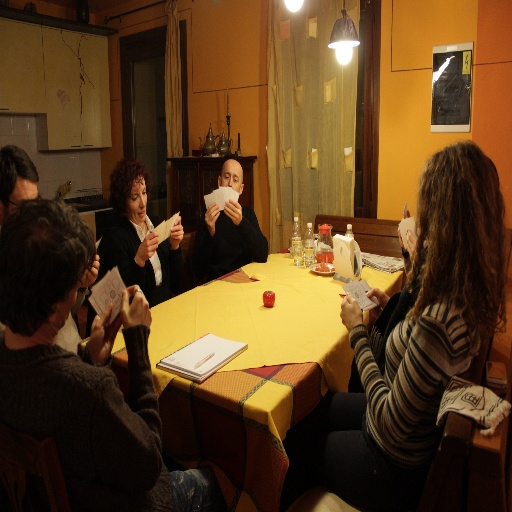hand: (100, 285, 148, 350), (86, 301, 126, 369), (338, 290, 362, 334), (363, 285, 390, 318), (220, 192, 244, 227), (79, 253, 101, 290), (137, 229, 160, 262), (203, 198, 221, 240), (404, 227, 421, 267), (167, 211, 184, 246), (396, 226, 406, 250)
